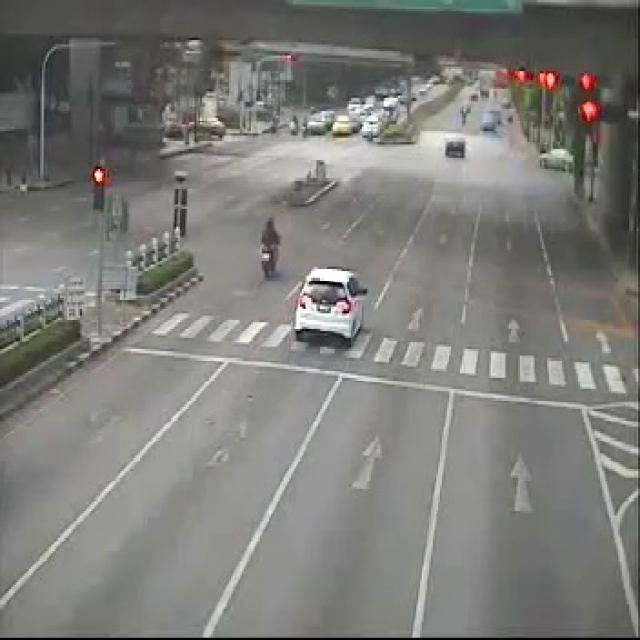car: (294, 267, 366, 344)
motobike: (258, 215, 279, 275)
red_light: (88, 160, 109, 208)
stop_line: (124, 347, 579, 407)
